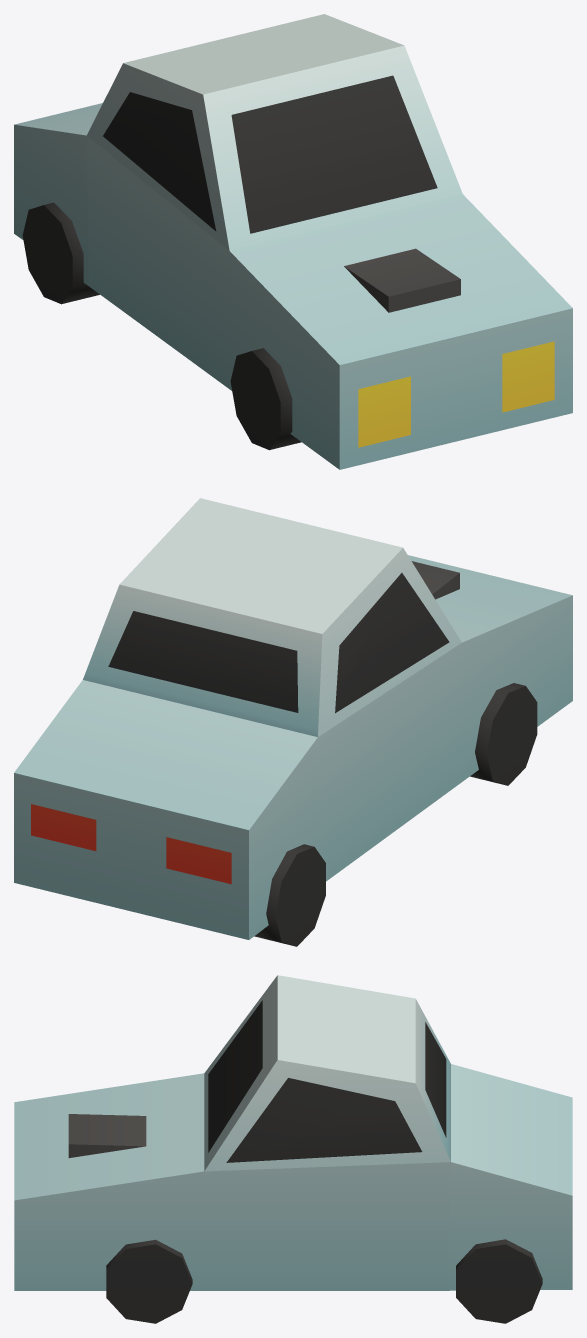
Rendered from Car_7_5.fbx.
3 views of the same model, one above another, from view 1: azimuth 30°, elevation 25°; view 2: azimuth 150°, elevation 25°; view 3: azimuth 270°, elevation 25° (orthographic). The views are drawn at different scales.
Parts seen in each view (by area): view 1: Car_7_5; view 2: Car_7_5; view 3: Car_7_5.
Boxes of the visible parts, x1,y1,x2,y2 form: Car_7_5: (14,14,572,469); Car_7_5: (14,498,572,946); Car_7_5: (14,975,572,1323).
Size of the model in its own units: 212 by 231 by 464.
